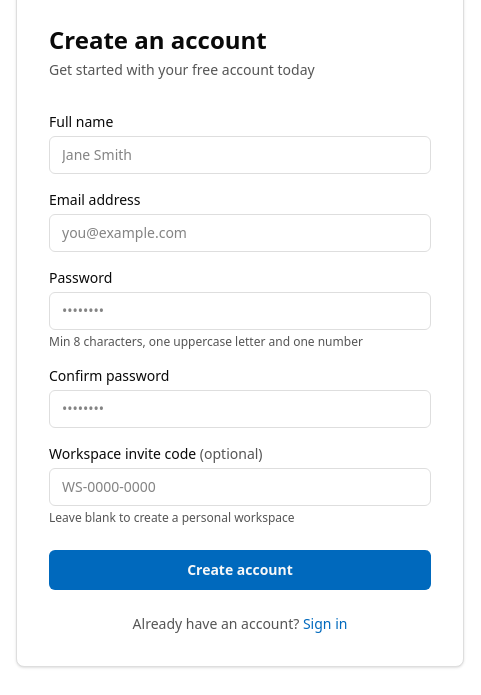
Test: RegisterComponent › should show validation errors on empty form submit
(page scrolled)
Click the submit button.
click(240, 570)  # box [49, 550, 431, 590]
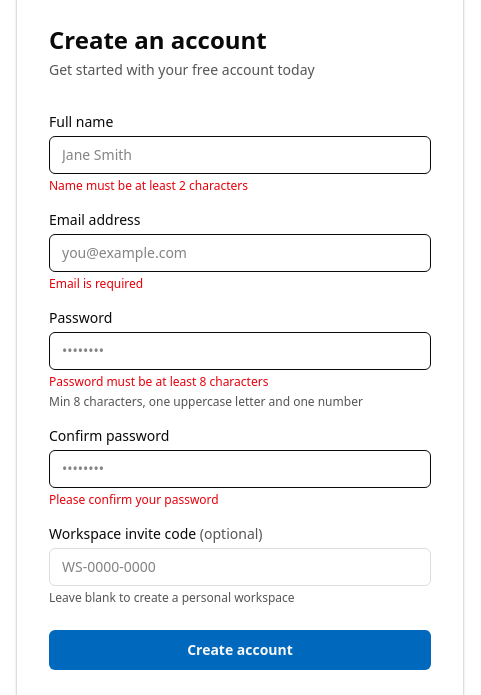
Result: the text "Name must be at least 2 characters" is shown at [49, 177, 248, 194]
